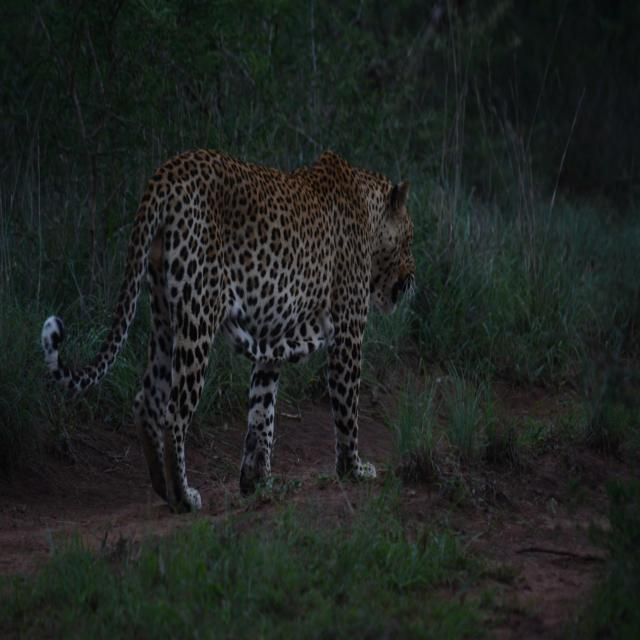Leopard: (44, 125, 422, 529)
